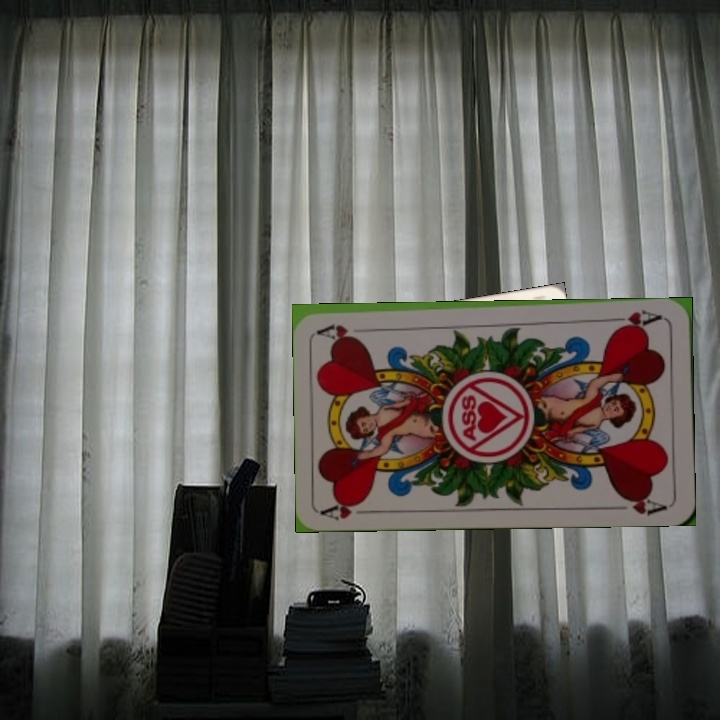HA: (320, 496, 379, 523), (607, 306, 664, 332)
